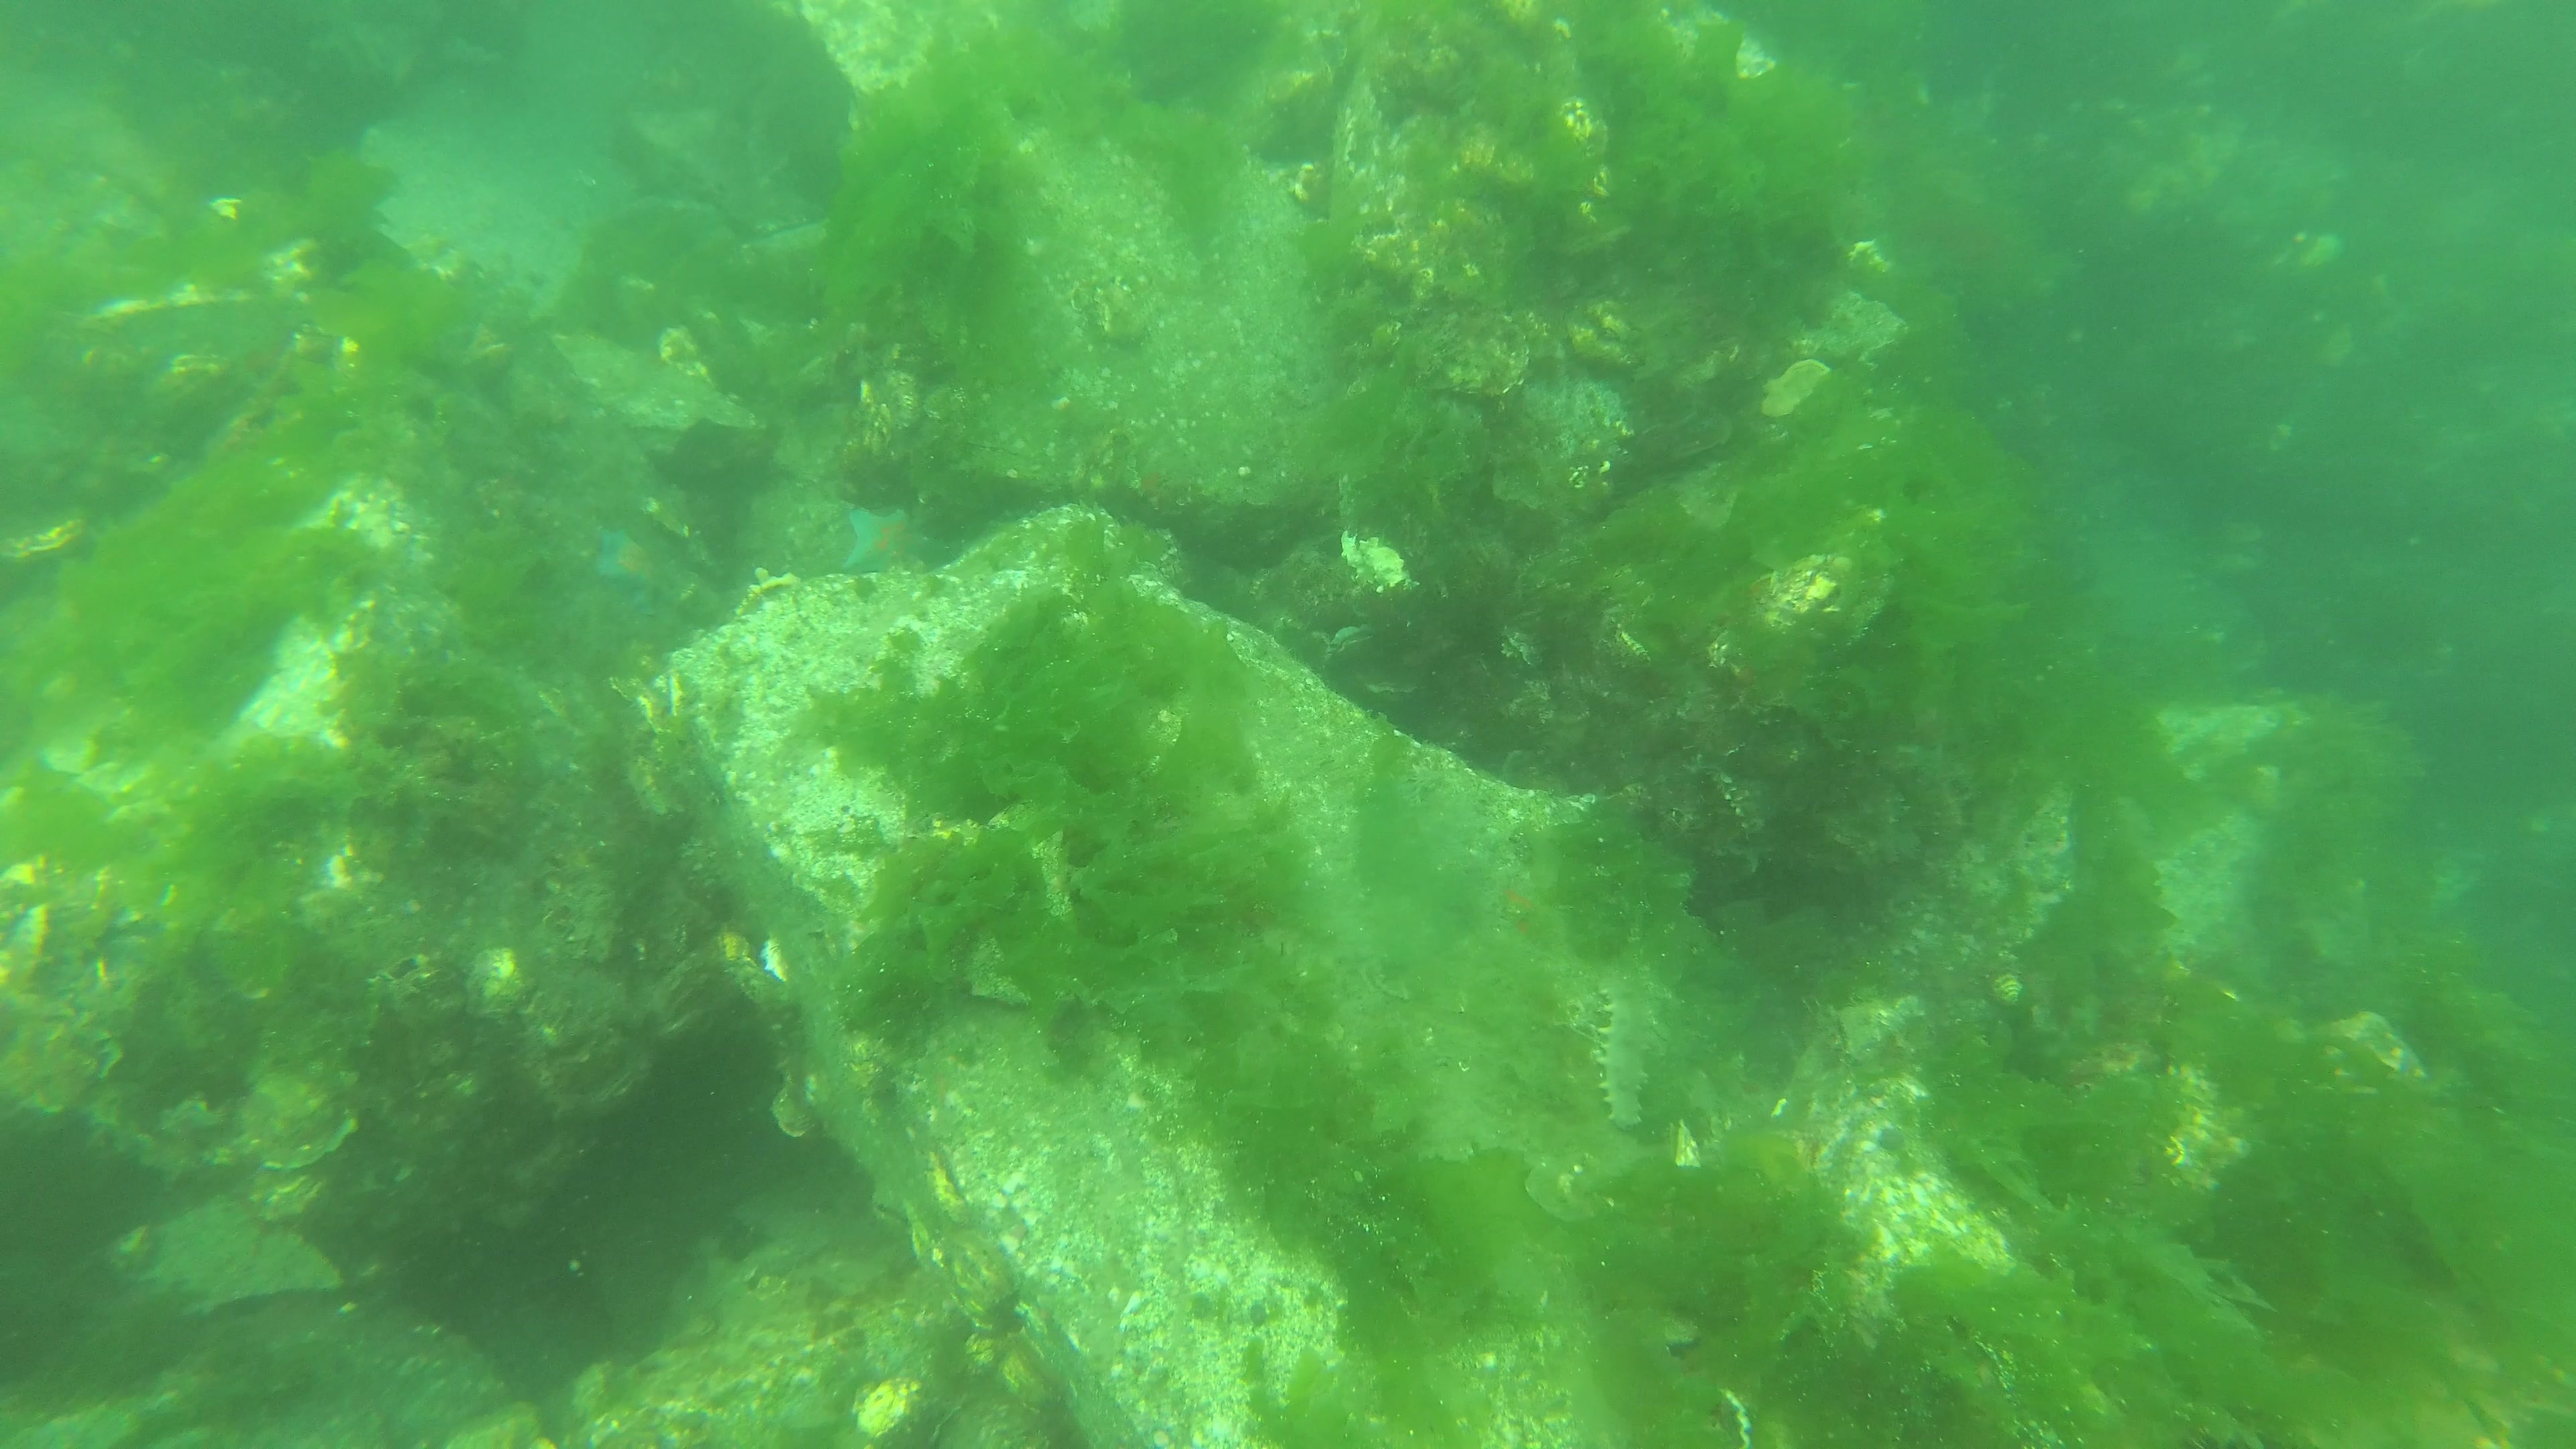holothurian: (1592, 968, 1665, 1136)
starfish: (844, 499, 948, 584), (589, 522, 662, 605)
